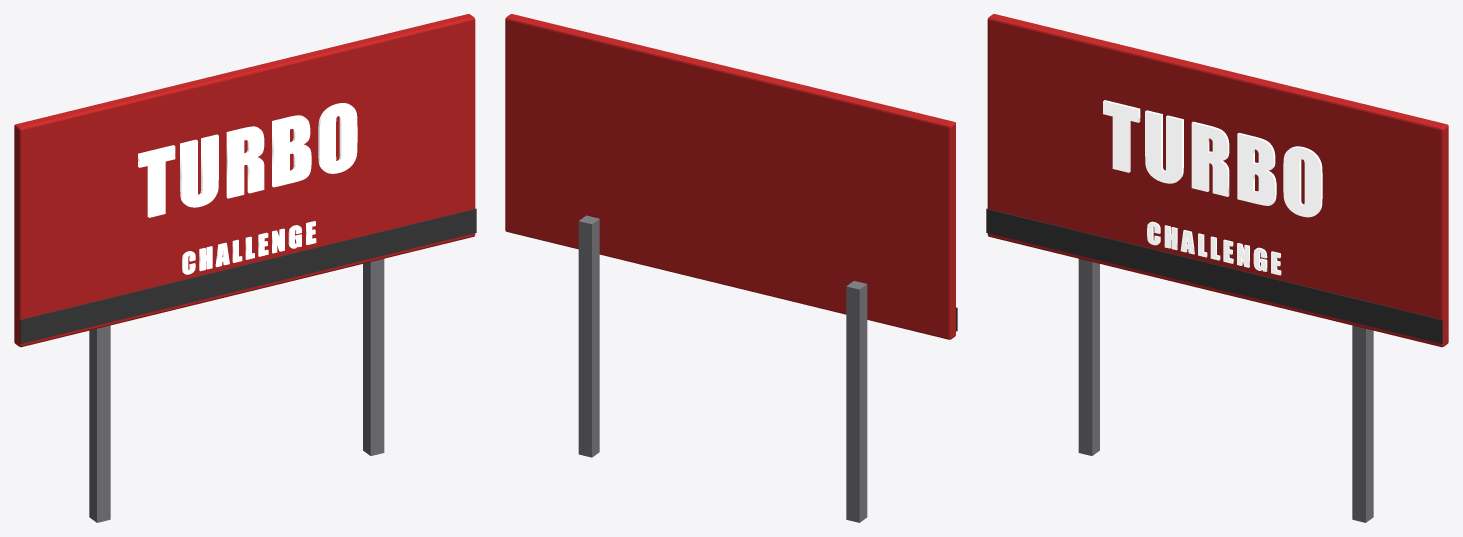
Rendered from bb_turbo.glb.
3 views of the same model, side by side, from view 1: azimuth 30°, elevation 25°; view 2: azimuth 150°, elevation 25°; view 3: azimuth 330°, elevation 25° (orthographic). The views are drawn at different scales.
Parts seen in each view (by area): view 1: board, stripe, txt, posts, txt.001; view 2: board, posts; view 3: board, stripe, txt, posts, txt.001.
Boxes of the visible parts, <box> form: board: <box>14,14,475,347</box>; stripe: <box>20,208,476,343</box>; txt: <box>138,103,357,217</box>; posts: <box>89,259,384,522</box>; txt.001: <box>182,221,316,274</box>; board: <box>505,14,955,339</box>; posts: <box>578,215,867,522</box>; board: <box>987,14,1448,347</box>; stripe: <box>986,208,1442,343</box>; txt: <box>1103,100,1322,217</box>; posts: <box>1078,259,1373,522</box>; txt.001: <box>1147,221,1281,275</box>.
Bounding box in the file's own units: 10 × 8.8 × 0.64.
